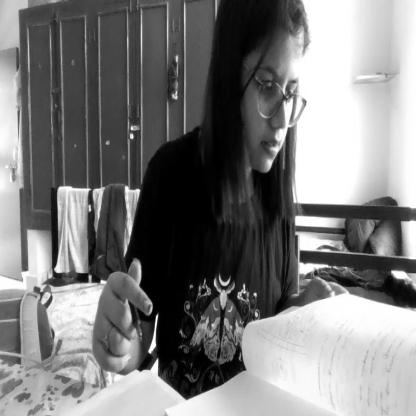Distracted: (215, 0, 311, 189)
